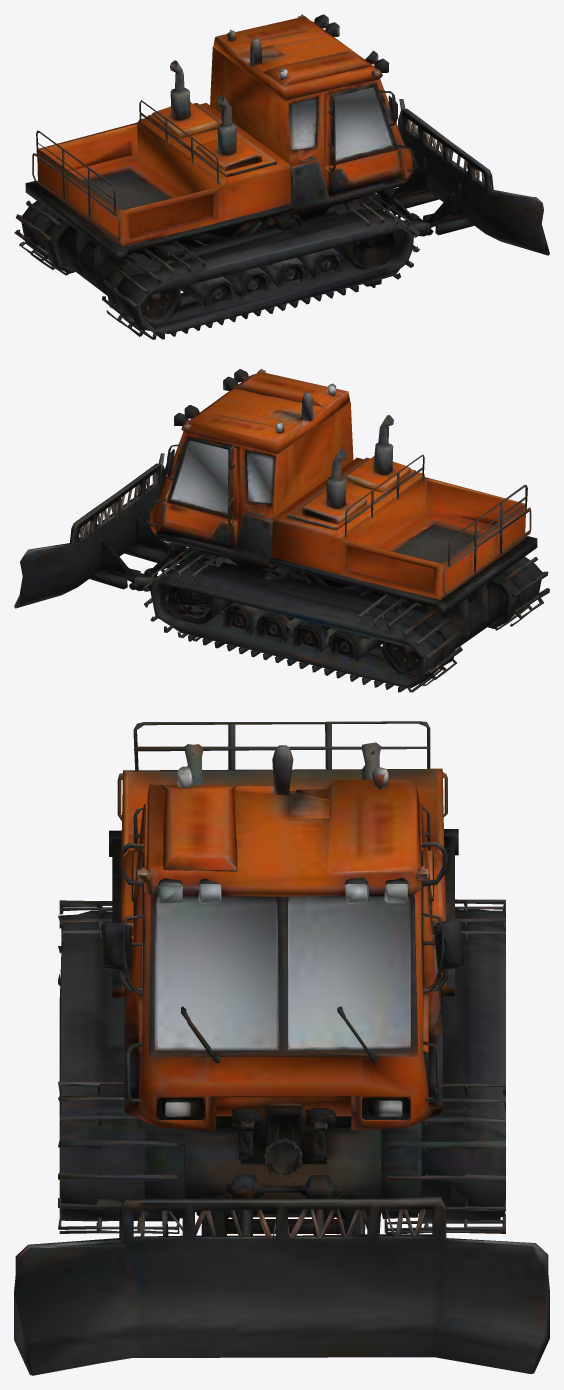
File: snowcat.glb
3 views of the same model, one above another, from view 1: azimuth 30°, elevation 25°; view 2: azimuth 150°, elevation 25°; view 3: azimuth 270°, elevation 25° (orthographic). The views are drawn at different scales.
Parts seen in each view (by area): view 1: tripo_node_48774ae7-81c4-4188-b807-e938e4b816df; view 2: tripo_node_48774ae7-81c4-4188-b807-e938e4b816df; view 3: tripo_node_48774ae7-81c4-4188-b807-e938e4b816df.
Part boxes in pixels (x1=…): tripo_node_48774ae7-81c4-4188-b807-e938e4b816df: x1=14, y1=14, x2=549, y2=339; tripo_node_48774ae7-81c4-4188-b807-e938e4b816df: x1=14, y1=368, x2=549, y2=692; tripo_node_48774ae7-81c4-4188-b807-e938e4b816df: x1=14, y1=721, x2=549, y2=1375.
Size of the model in its own units: 0.998 by 0.5176 by 0.5957.
1 material, 1 textured.
